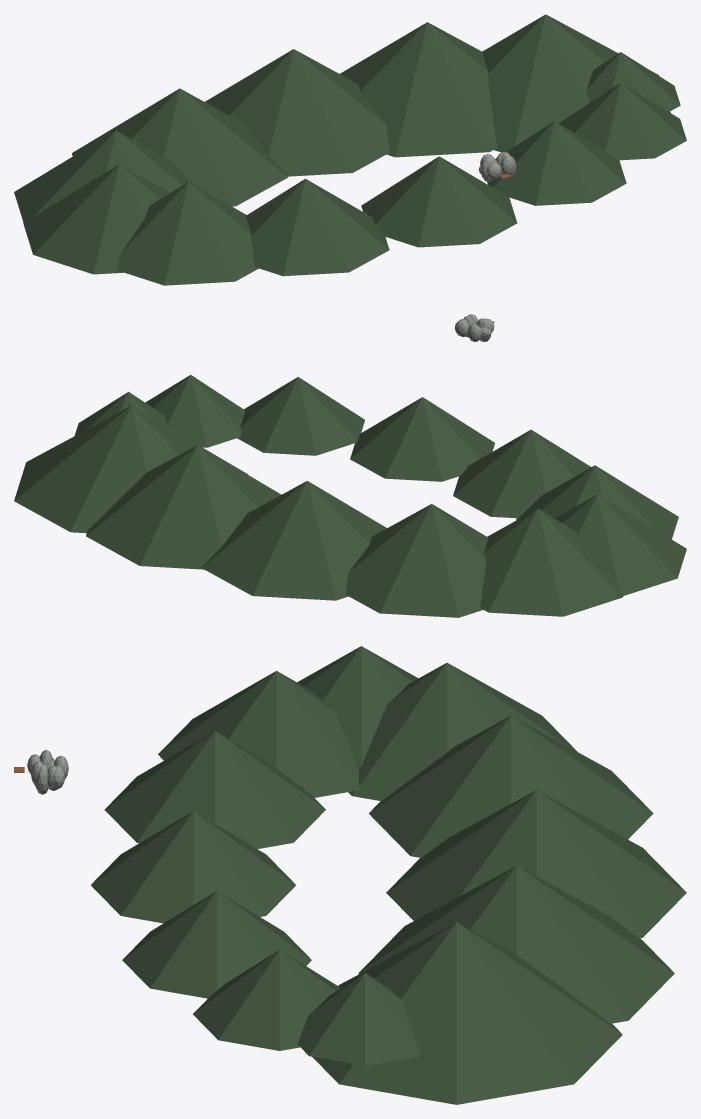
The model's file is yeonjudae-proxy-lod0.glb.
3 views of the same model, one above another, from view 1: azimuth 30°, elevation 25°; view 2: azimuth 150°, elevation 25°; view 3: azimuth 270°, elevation 25° (orthographic). The views are drawn at different scales.
Parts seen in each view (by area): view 1: forest, ridge; view 2: forest, ridge; view 3: forest, ridge.
Part boxes in pixels (x1,y1,x2,y2): forest: [14, 14, 686, 285]; ridge: [478, 152, 516, 181]; forest: [14, 374, 686, 617]; ridge: [455, 314, 494, 341]; forest: [91, 646, 686, 1104]; ridge: [27, 750, 68, 794].
Size of the model in its own units: 369 by 62.47 by 255.
